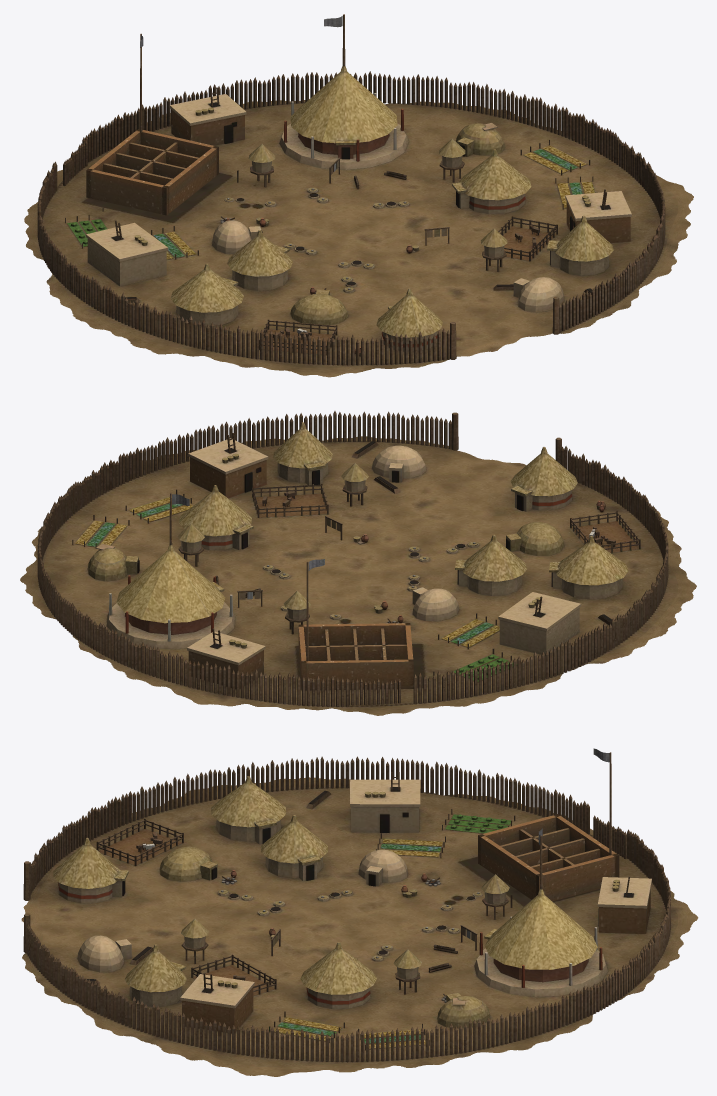
The model's file is stone-town-medium-b-nile.glb.
3 renders of one model, top to bottom at view 1: azimuth 30°, elevation 25°; view 2: azimuth 150°, elevation 25°; view 3: azimuth 270°, elevation 25°, orthographic. The views are drawn at different scales.
Parts seen in each view (by area): view 1: LOD0; view 2: LOD0; view 3: LOD0.
Boxes of the visible parts, x1=… form: LOD0: x1=24, y1=14, x2=693, y2=377; LOD0: x1=20, y1=411, x2=696, y2=715; LOD0: x1=21, y1=748, x2=698, y2=1076.
Size of what is drawn, in the model's own units: 6.03 by 1.25 by 5.74.
Materials: 3 (3 with a texture image).
